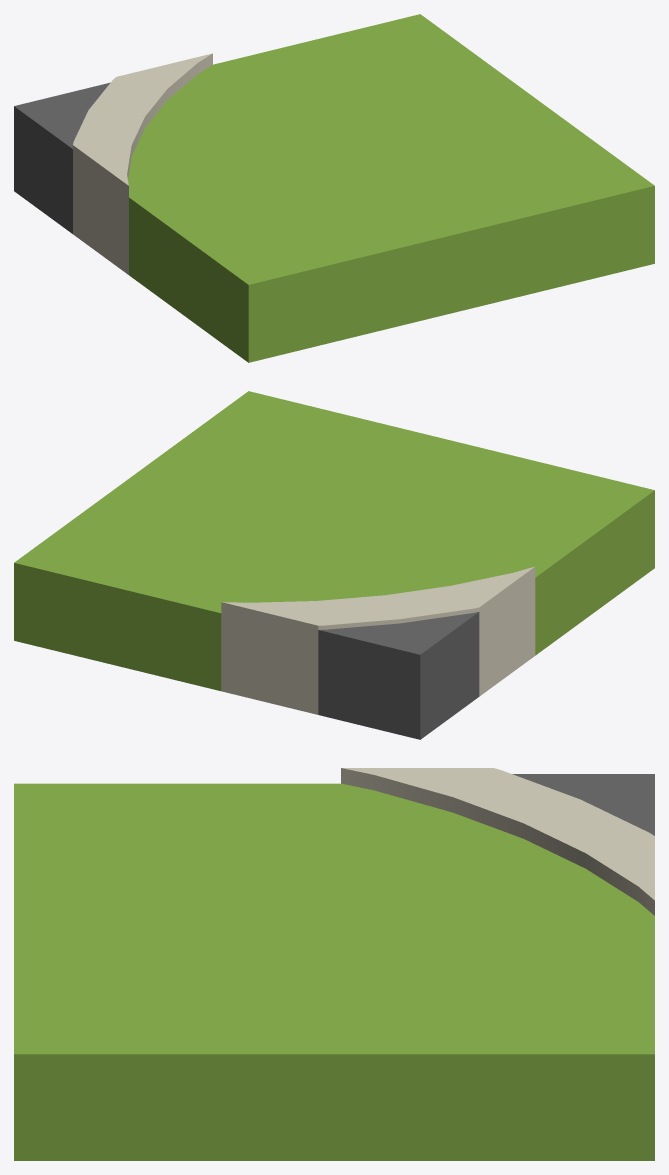
The model's file is tile105.dae.
3 renders of one model, top to bottom at view 1: azimuth 30°, elevation 25°; view 2: azimuth 150°, elevation 25°; view 3: azimuth 270°, elevation 25°, orthographic. The views are drawn at different scales.
Parts seen in each view (by area): view 1: tile105; view 2: tile105; view 3: tile105.
Part boxes in pixels (<box>): tile105: <box>14,14,654,362</box>; tile105: <box>14,391,654,739</box>; tile105: <box>14,768,654,1160</box>.
Bounding box in the file's own units: 1 × 0.21 × 1.
